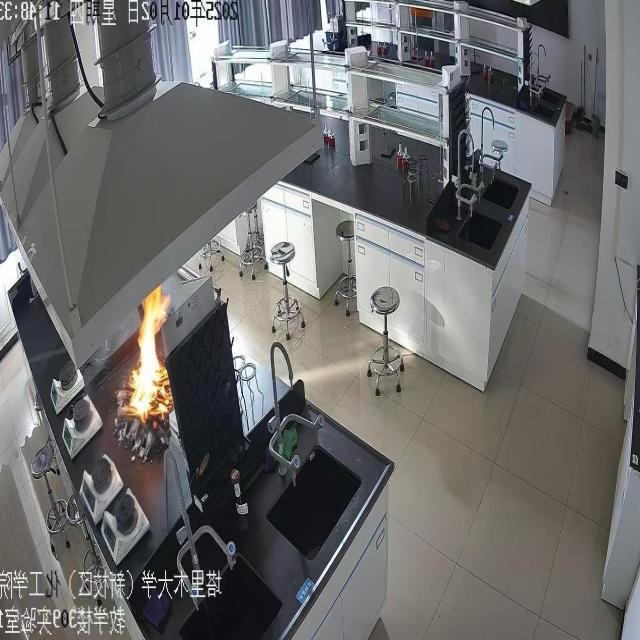smoke: (128, 281, 172, 422)
